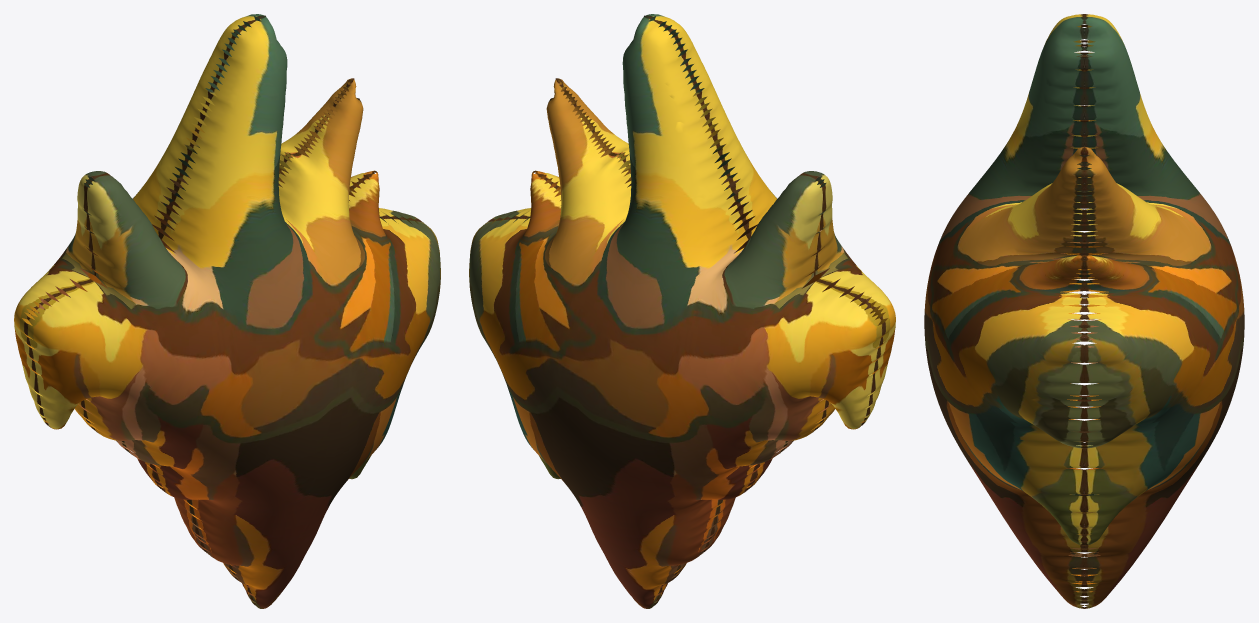
Rendered from floating_spire.glb.
3 views of the same model, side by side, from view 1: azimuth 30°, elevation 25°; view 2: azimuth 150°, elevation 25°; view 3: azimuth 270°, elevation 25° (orthographic).
Parts seen in each view (by area): view 1: floating_spire; view 2: floating_spire; view 3: floating_spire.
Boxes of the visible parts, x1,y1,x2,y2 form: floating_spire: (14, 14, 440, 608); floating_spire: (469, 14, 895, 608); floating_spire: (924, 14, 1244, 608).
Bounding box in the file's own units: 0.9845 × 1.38 × 0.6784.
Materials: 1 (1 with a texture image).
